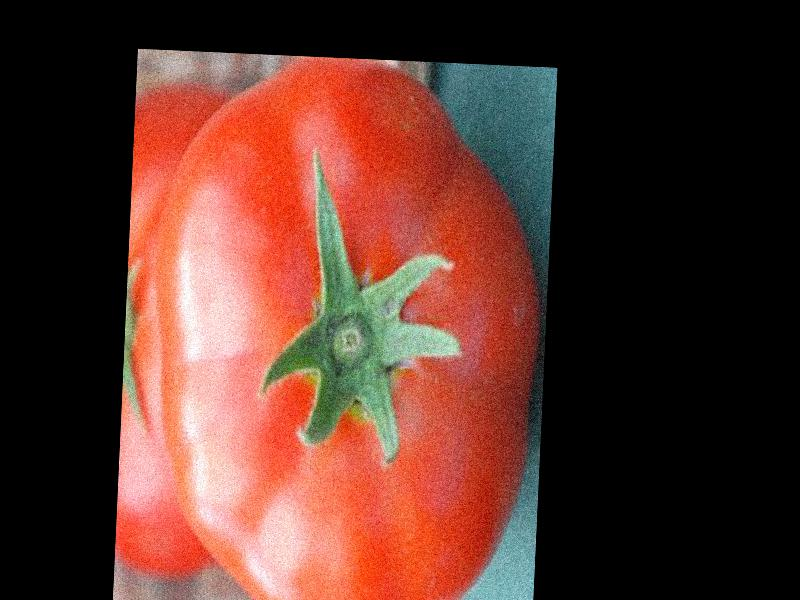Tomato: (140, 49, 549, 600)
